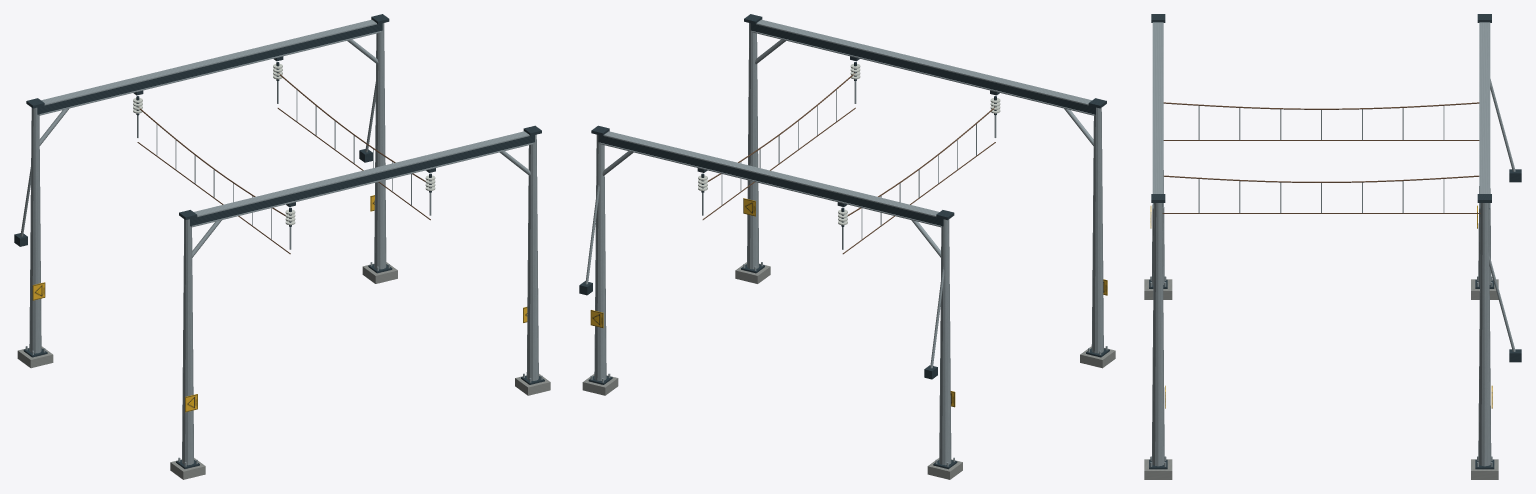
3 renders of one model, left to right at view 1: azimuth 30°, elevation 25°; view 2: azimuth 150°, elevation 25°; view 3: azimuth 270°, elevation 25°, orthographic. The views are drawn at different scales.
Visible parts, largest first — view 1: VIS_SteelMast, VIS_PortalCrossbeam, VIS_PortalUpperFlange, VIS_ConcreteFooting, VIS_PortalLowerFlange, VIS_PortalKneeBrace, VIS_Dropper, VIS_IdentificationPlate, VIS_MessengerWire, VIS_CeramicDisc; view 2: VIS_SteelMast, VIS_PortalCrossbeam, VIS_PortalUpperFlange, VIS_ConcreteFooting, VIS_PortalLowerFlange, VIS_PortalKneeBrace, VIS_TensionStay, VIS_IdentificationPlate, VIS_MessengerWire, VIS_CeramicDisc, VIS_MastCap; view 3: VIS_SteelMast, VIS_PortalUpperFlange, VIS_ConcreteFooting, VIS_MessengerWire, VIS_Dropper, VIS_TensionStay, VIS_ContactWire, VIS_MastCap.
Part boxes in pixels (x1=…): VIS_SteelMast: x1=29, y1=23, x2=538, y2=465; VIS_PortalCrossbeam: x1=37, y1=23, x2=534, y2=226; VIS_PortalUpperFlange: x1=41, y1=19, x2=529, y2=216; VIS_ConcreteFooting: x1=17, y1=262, x2=550, y2=479; VIS_PortalLowerFlange: x1=38, y1=31, x2=533, y2=227; VIS_PortalKneeBrace: x1=39, y1=39, x2=530, y2=257; VIS_Dropper: x1=156, y1=90, x2=411, y2=239; VIS_IdentificationPlate: x1=32, y1=195, x2=527, y2=412; VIS_MessengerWire: x1=138, y1=73, x2=425, y2=216; VIS_CeramicDisc: x1=133, y1=63, x2=435, y2=225; VIS_SteelMast: x1=594, y1=23, x2=1103, y2=465; VIS_PortalCrossbeam: x1=598, y1=23, x2=1095, y2=226; VIS_PortalUpperFlange: x1=603, y1=19, x2=1091, y2=216; VIS_ConcreteFooting: x1=582, y1=262, x2=1115, y2=479; VIS_PortalLowerFlange: x1=599, y1=31, x2=1094, y2=227; VIS_PortalKneeBrace: x1=602, y1=39, x2=1093, y2=257; VIS_TensionStay: x1=585, y1=185, x2=944, y2=368; VIS_IdentificationPlate: x1=590, y1=198, x2=1107, y2=407; VIS_MessengerWire: x1=708, y1=73, x2=994, y2=215; VIS_CeramicDisc: x1=698, y1=64, x2=1000, y2=225; VIS_MastCap: x1=591, y1=14, x2=1106, y2=220; VIS_SteelMast: x1=1151, y1=170, x2=1491, y2=466; VIS_PortalUpperFlange: x1=1152, y1=22, x2=1490, y2=193; VIS_ConcreteFooting: x1=1144, y1=279, x2=1498, y2=479; VIS_MessengerWire: x1=1163, y1=102, x2=1479, y2=182; VIS_Dropper: x1=1198, y1=106, x2=1444, y2=213; VIS_TensionStay: x1=1489, y1=79, x2=1515, y2=351; VIS_ContactWire: x1=1162, y1=140, x2=1480, y2=213; VIS_MastCap: x1=1151, y1=14, x2=1491, y2=202.
Size of the model in its own units: 11.12 by 7.49 by 9.24.
Materials: 6 (6 with a texture image).
